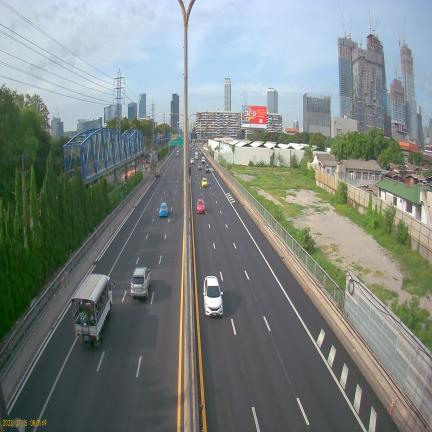bus: (114, 284, 115, 286)
car: (203, 276, 223, 316), (131, 267, 151, 298), (155, 170, 160, 177), (205, 165, 210, 172), (201, 157, 205, 164), (198, 164, 202, 170), (190, 158, 194, 164), (195, 154, 198, 159)
taxi: (159, 202, 168, 217), (197, 199, 205, 213), (201, 178, 208, 187)
truck: (71, 274, 112, 343)
van: (195, 150, 198, 159)
